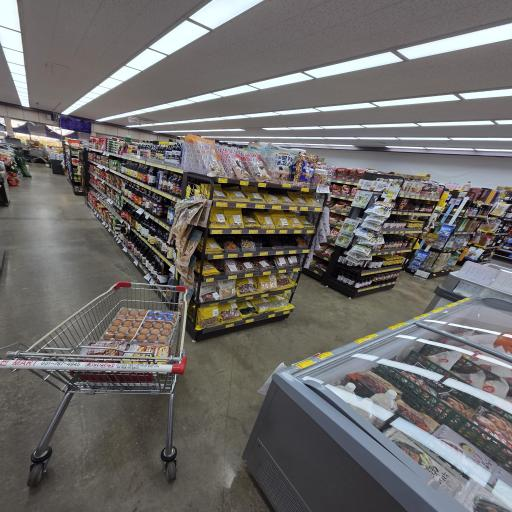fully_cart: (0, 274, 195, 484)
